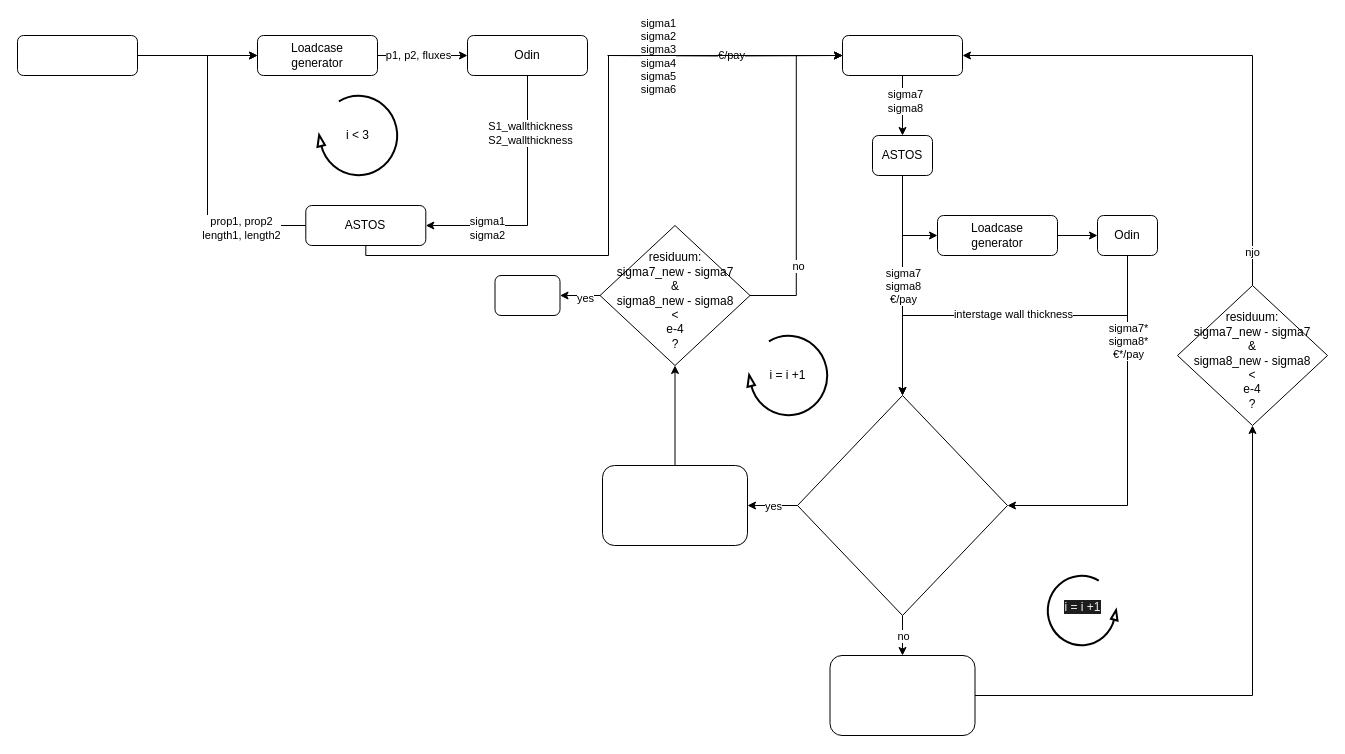
The diagram is 1345 pixels wide and 754 high, and some of its shapes have lost their labels. The shapes that lost their labels are listed below. From the top down, each one's box as (x1, y1, x2, y2) in pixels, then its label:
(16, 34, 138, 76): initial gtp
(842, 34, 962, 76): Downhill Simplex
(494, 274, 560, 316): finito
(602, 464, 748, 546): sigma7_new = sigma7 sigma8_new = sigma8
(796, 394, 1008, 616): €/pay < €*/pay & sigma7, sigma8 > sigma7*, sigma8* ?
(829, 654, 975, 736): sigma7_new = sigma7* sigma8_new = sigma8*
